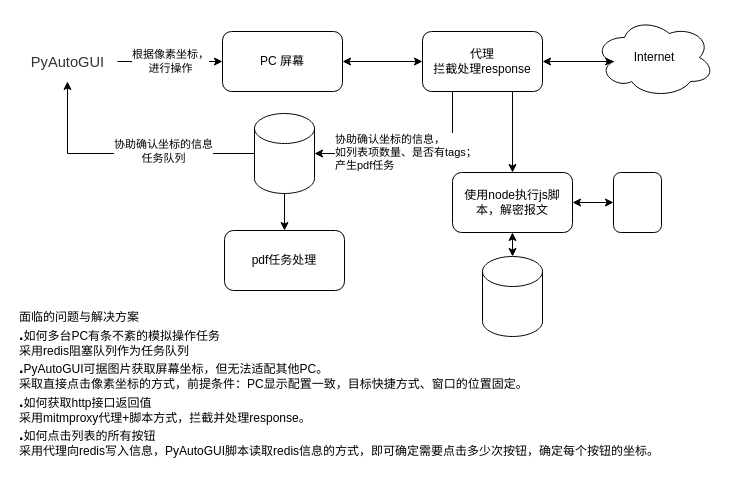
Image size: 732x482. Some labels were removed from this diagram. The shapes that lost their labels are listed below. From the top down, each one's box as (x1, y1, x2, y2) in pixels, then its label:
(254, 112, 314, 194): redis
(612, 172, 662, 232): nodejs
(482, 256, 542, 336): mysql
